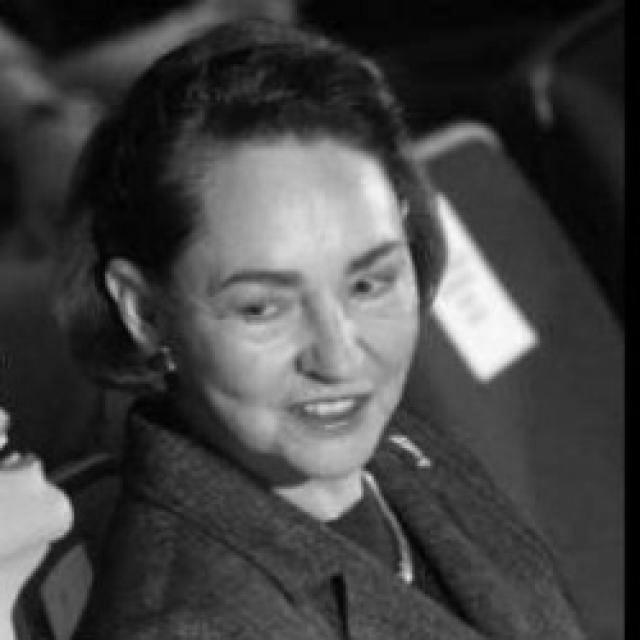real: (168, 154, 420, 482), (227, 252, 417, 332)
